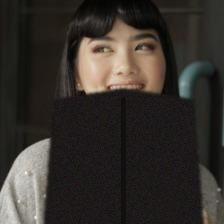Cadar_Niqab: (44, 0, 203, 224)
